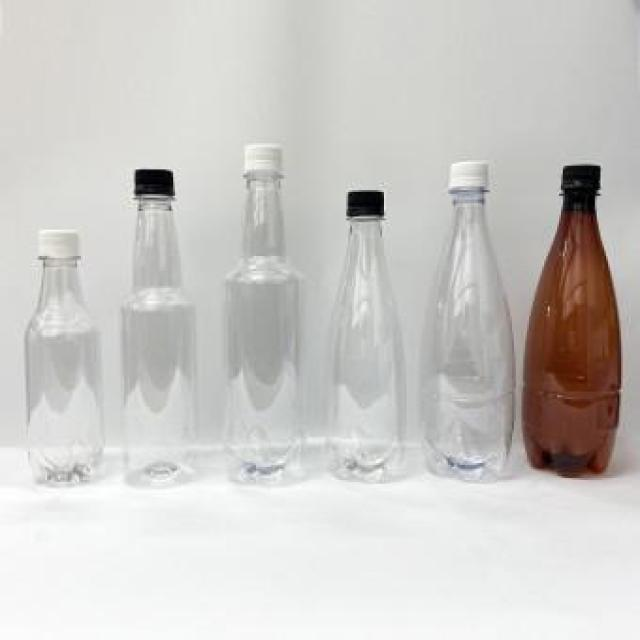bottle: (522, 165, 628, 480), (425, 159, 519, 481), (230, 147, 306, 488), (124, 159, 204, 481), (328, 191, 414, 485), (27, 230, 105, 486)
